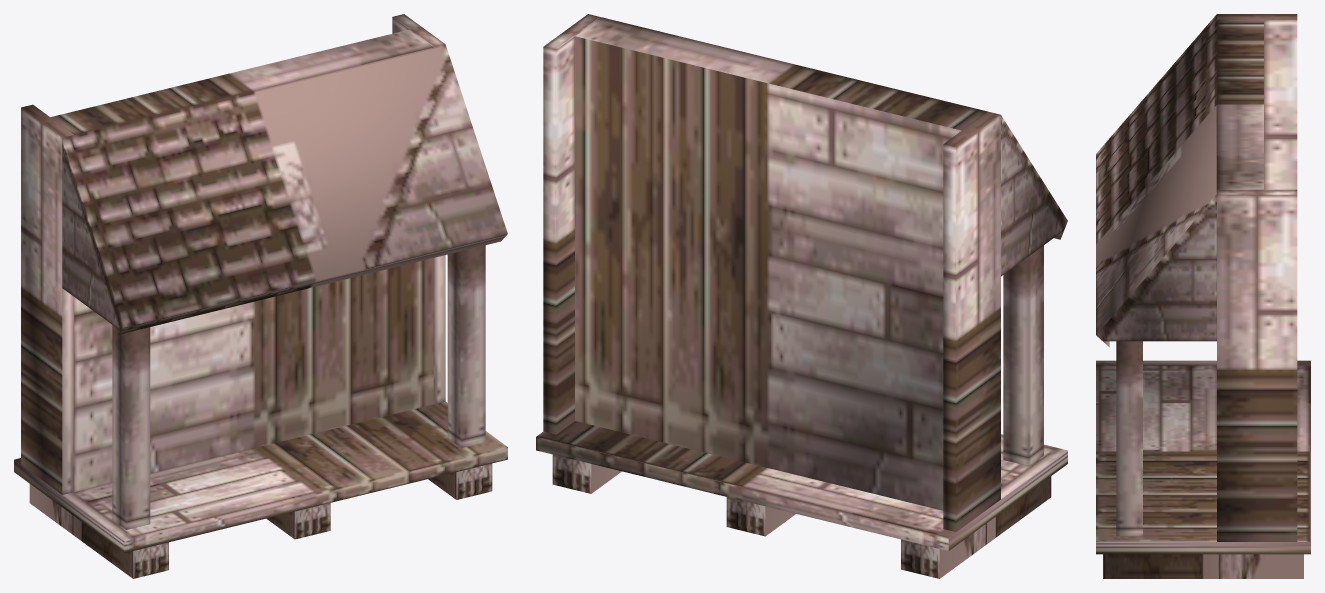
Rendered from int_wst_storefront.dae.
The picture shows the model from 3 angles, left to right: view 1: azimuth 30°, elevation 25°; view 2: azimuth 150°, elevation 25°; view 3: azimuth 270°, elevation 25°; orthographic projection. The views are drawn at different scales.
Parts seen in each view (by area): view 1: int_wst_storefront; view 2: int_wst_storefront; view 3: int_wst_storefront.
Boxes of the visible parts, x1,y1,x2,y2 form: int_wst_storefront: (14, 14, 507, 578); int_wst_storefront: (536, 14, 1067, 578); int_wst_storefront: (1096, 14, 1310, 578).
Bounding box in the file's own units: 64 × 64 × 32.
1 material, 1 textured.
